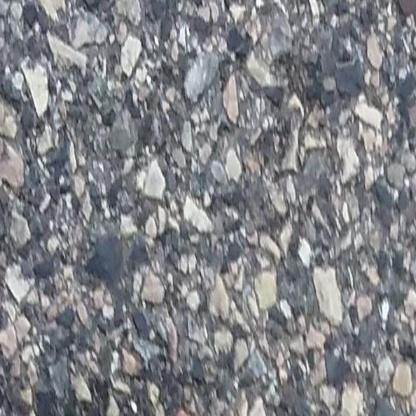Cracks: (83, 369, 198, 416)
